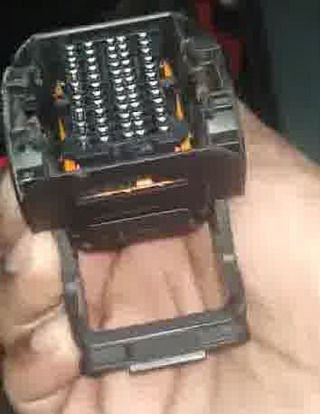connector: (1, 11, 247, 243)
